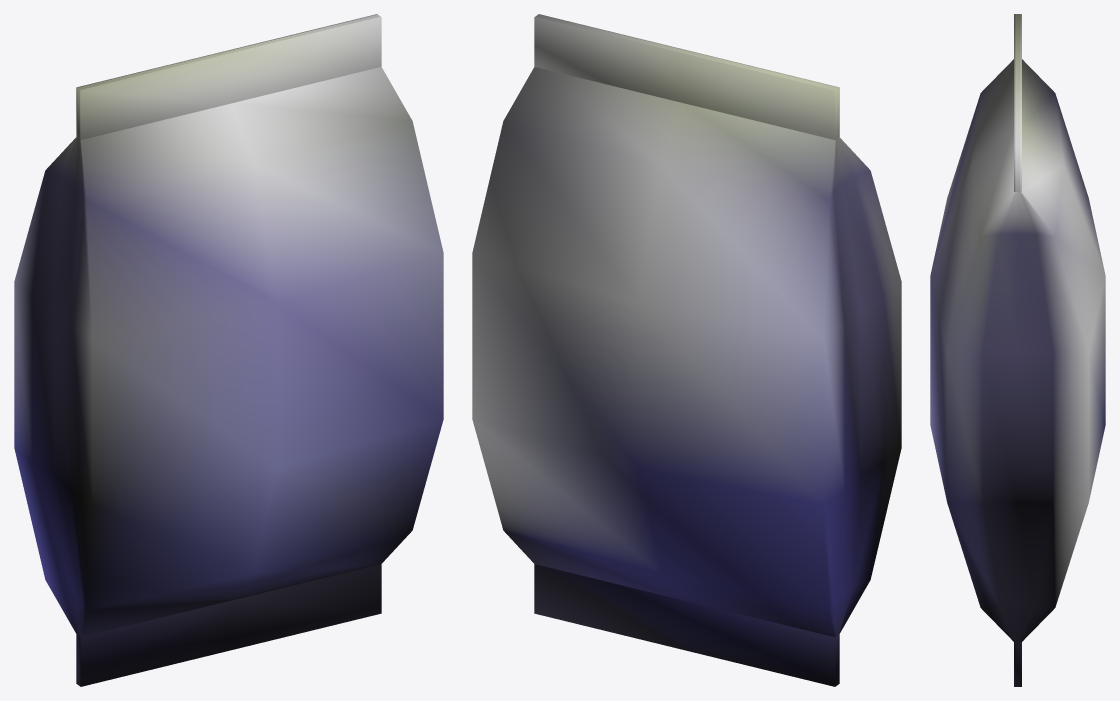
The model's file is Chips01.fbx.
3 views of the same model, side by side, from view 1: azimuth 30°, elevation 25°; view 2: azimuth 150°, elevation 25°; view 3: azimuth 270°, elevation 25° (orthographic). The views are drawn at different scales.
Parts seen in each view (by area): view 1: Chips; view 2: Chips; view 3: Chips.
Part boxes in pixels (x1,y1,x2,y2): Chips: (14, 14, 443, 686); Chips: (472, 14, 901, 686); Chips: (930, 14, 1105, 686).
Size of the model in its own units: 11.46 by 18.41 by 5.41.
